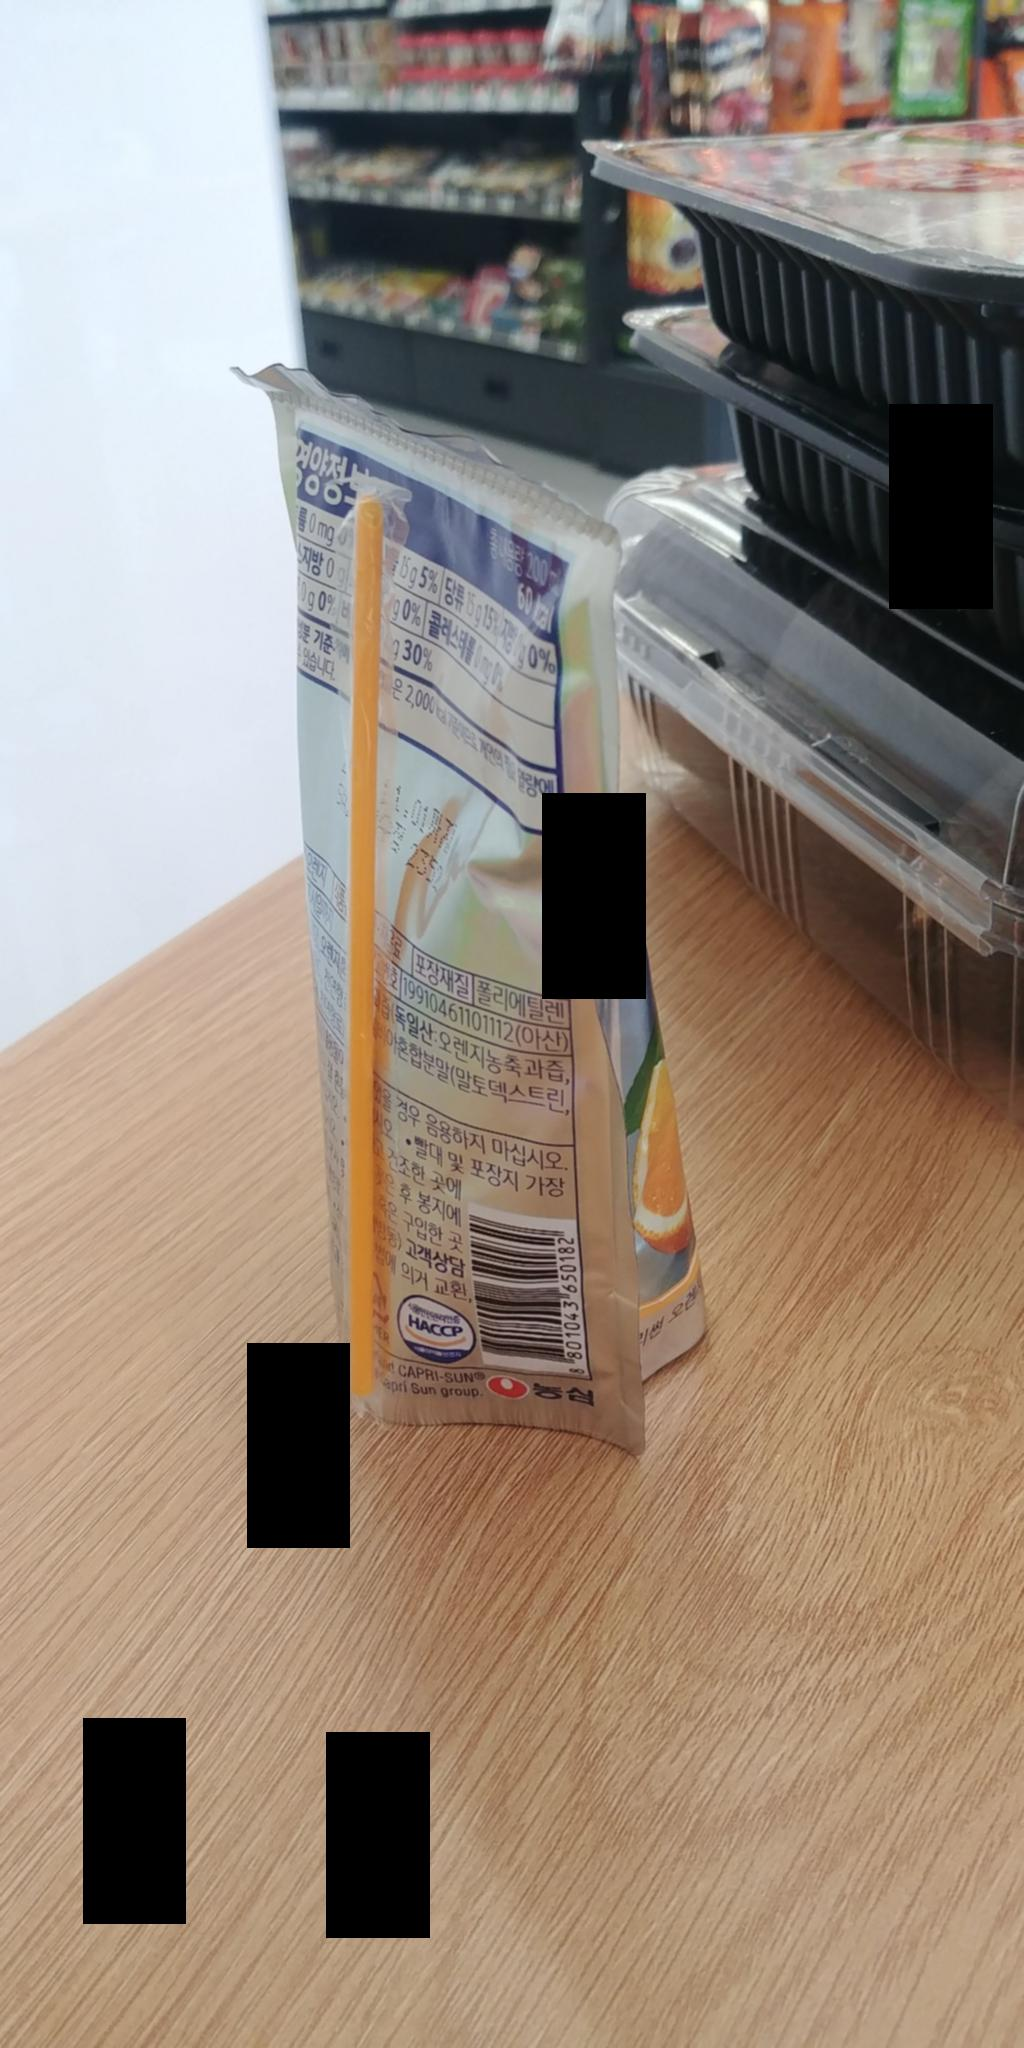cafrisun: (210, 342, 748, 1498)
